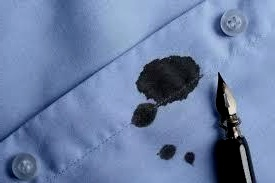ink: (138, 56, 200, 106), (130, 109, 155, 126), (160, 145, 175, 159), (185, 152, 195, 164)
